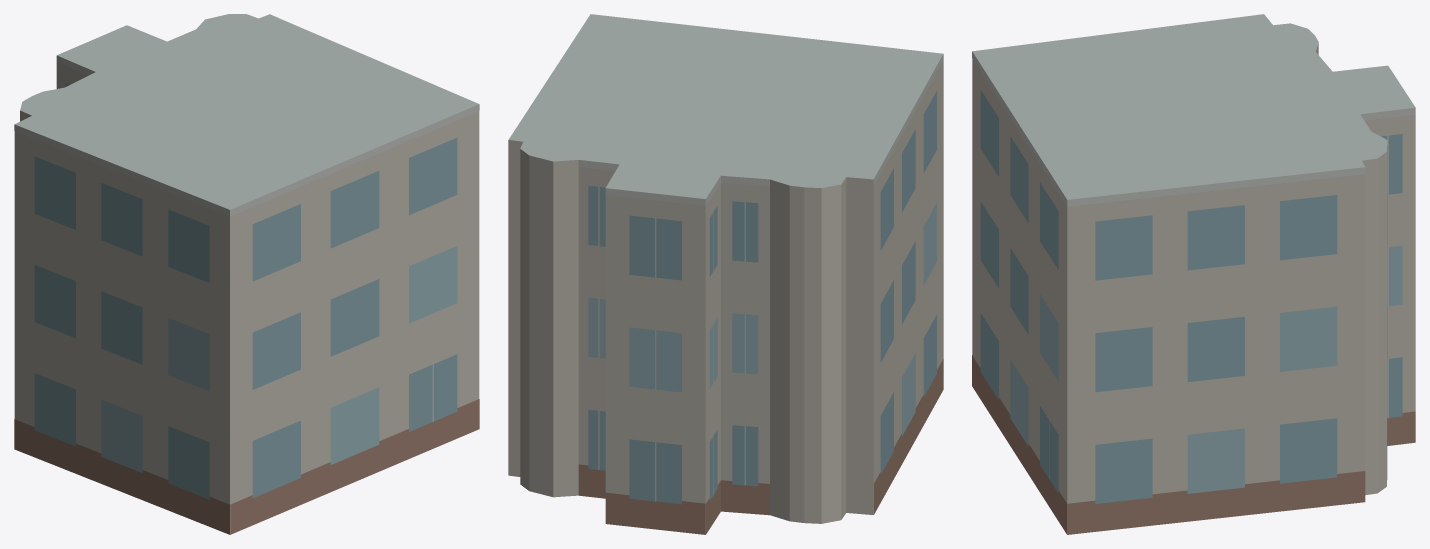
Rendered from survey-upis-32664974.glb.
3 views of the same model, side by side, from view 1: azimuth 30°, elevation 25°; view 2: azimuth 150°, elevation 25°; view 3: azimuth 270°, elevation 25° (orthographic). The views are drawn at different scales.
Visible parts, largest first — view 1: survey-upis-32664974.tmp; view 2: survey-upis-32664974.tmp; view 3: survey-upis-32664974.tmp.
Part boxes in pixels (<box>): survey-upis-32664974.tmp: <box>14,14,479,534</box>; survey-upis-32664974.tmp: <box>508,14,943,534</box>; survey-upis-32664974.tmp: <box>972,14,1415,534</box>.
Bounding box in the file's own units: 14.17 × 11.9 × 14.29.
